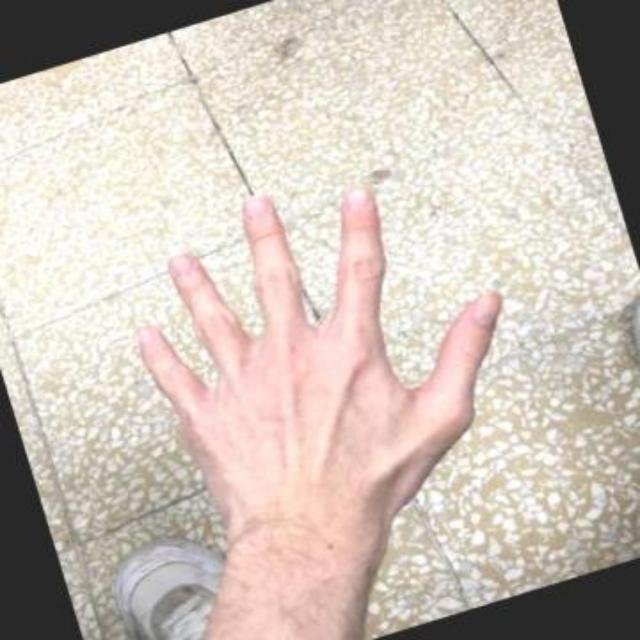bare_hand: (131, 179, 503, 493)
